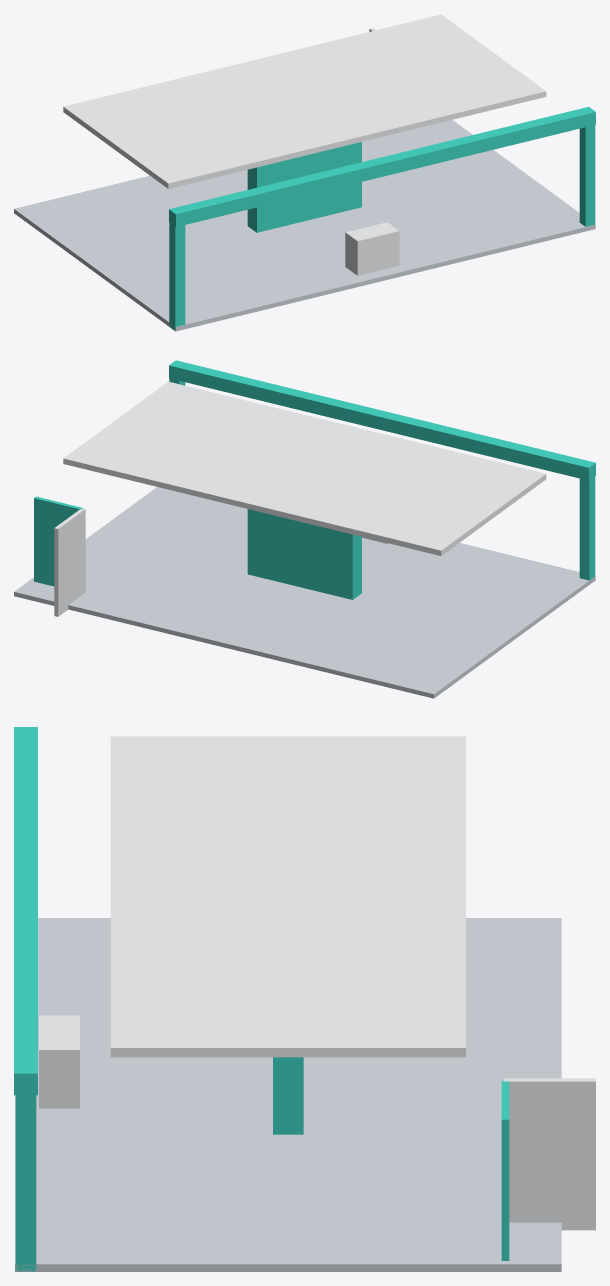
3 renders of one model, top to bottom at view 1: azimuth 30°, elevation 25°; view 2: azimuth 150°, elevation 25°; view 3: azimuth 270°, elevation 25°, orthographic. The views are drawn at different scales.
Visible parts, largest first — view 1: Exhibition Booth Concept; view 2: Exhibition Booth Concept; view 3: Exhibition Booth Concept.
Part boxes in pixels (<box>): Exhibition Booth Concept: <box>14,14,595,331</box>; Exhibition Booth Concept: <box>14,360,595,698</box>; Exhibition Booth Concept: <box>14,727,595,1271</box>.
Bounding box in the file's own units: 12 × 3.34 × 8.52.
